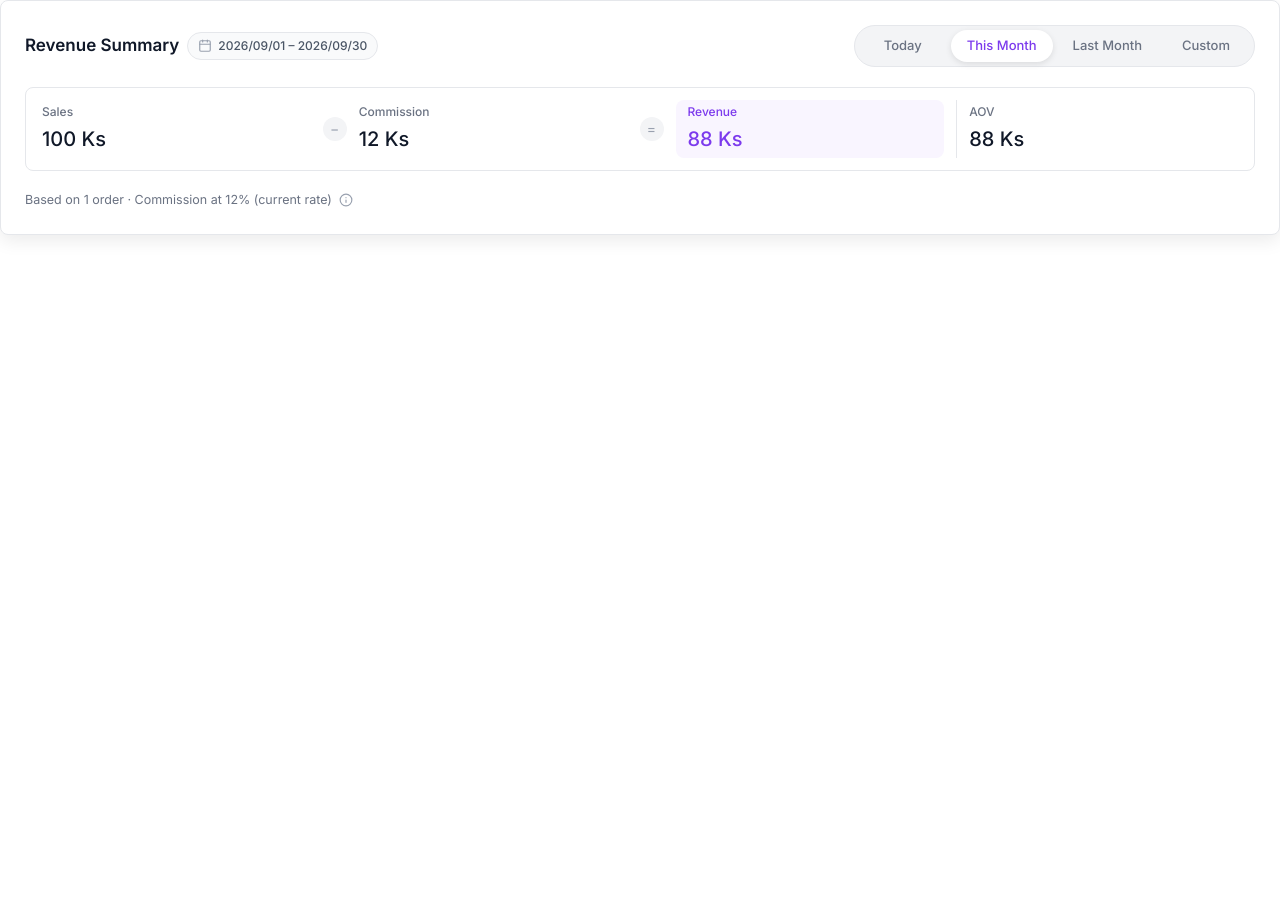
Test: RevenueSummaryGroup › falls back to the previous preset when the modal is dismissed without applying
Click the button "Custom" at (1206, 46), box [1162, 30, 1250, 62]
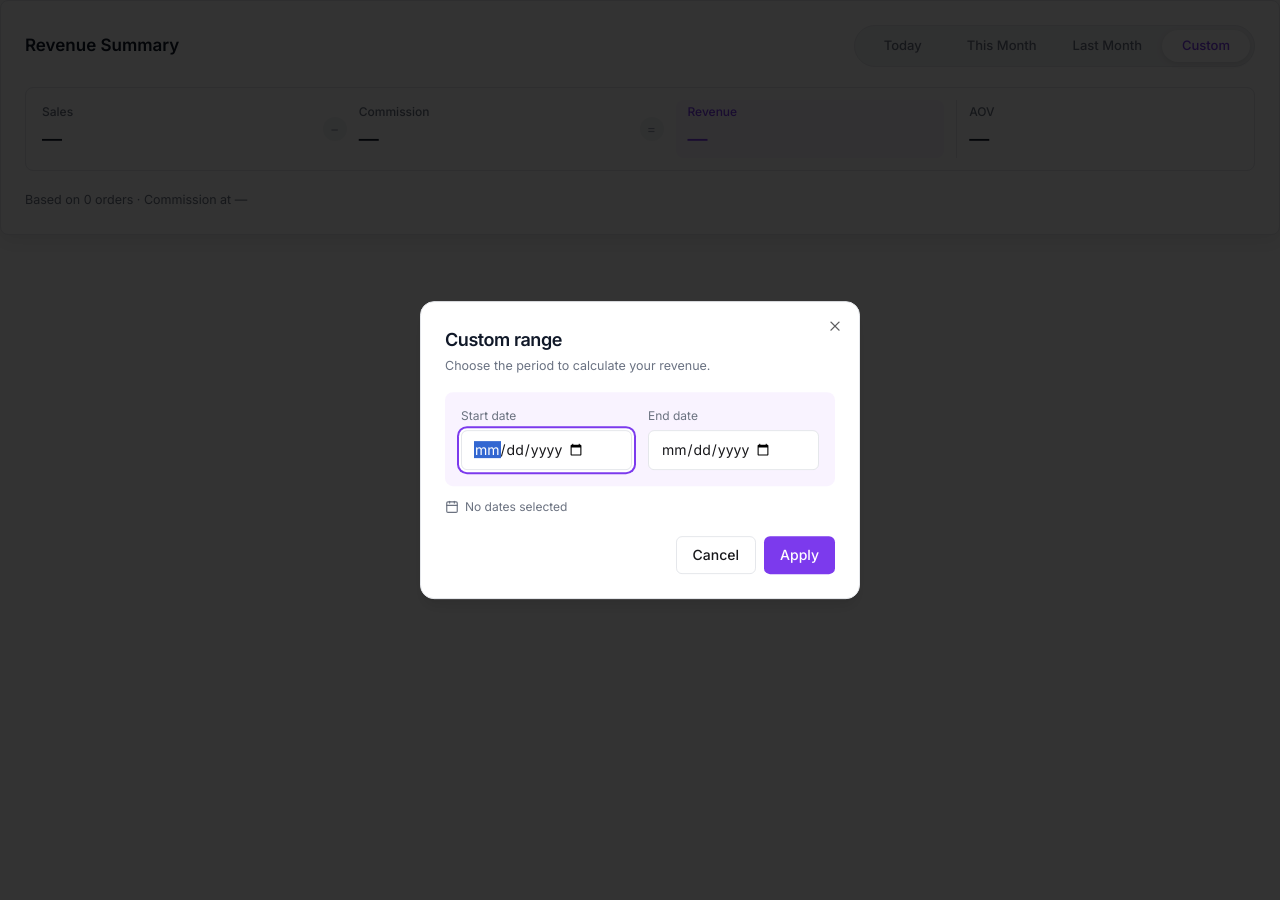
Click the button "Cancel" at (716, 555), box [676, 536, 756, 574]
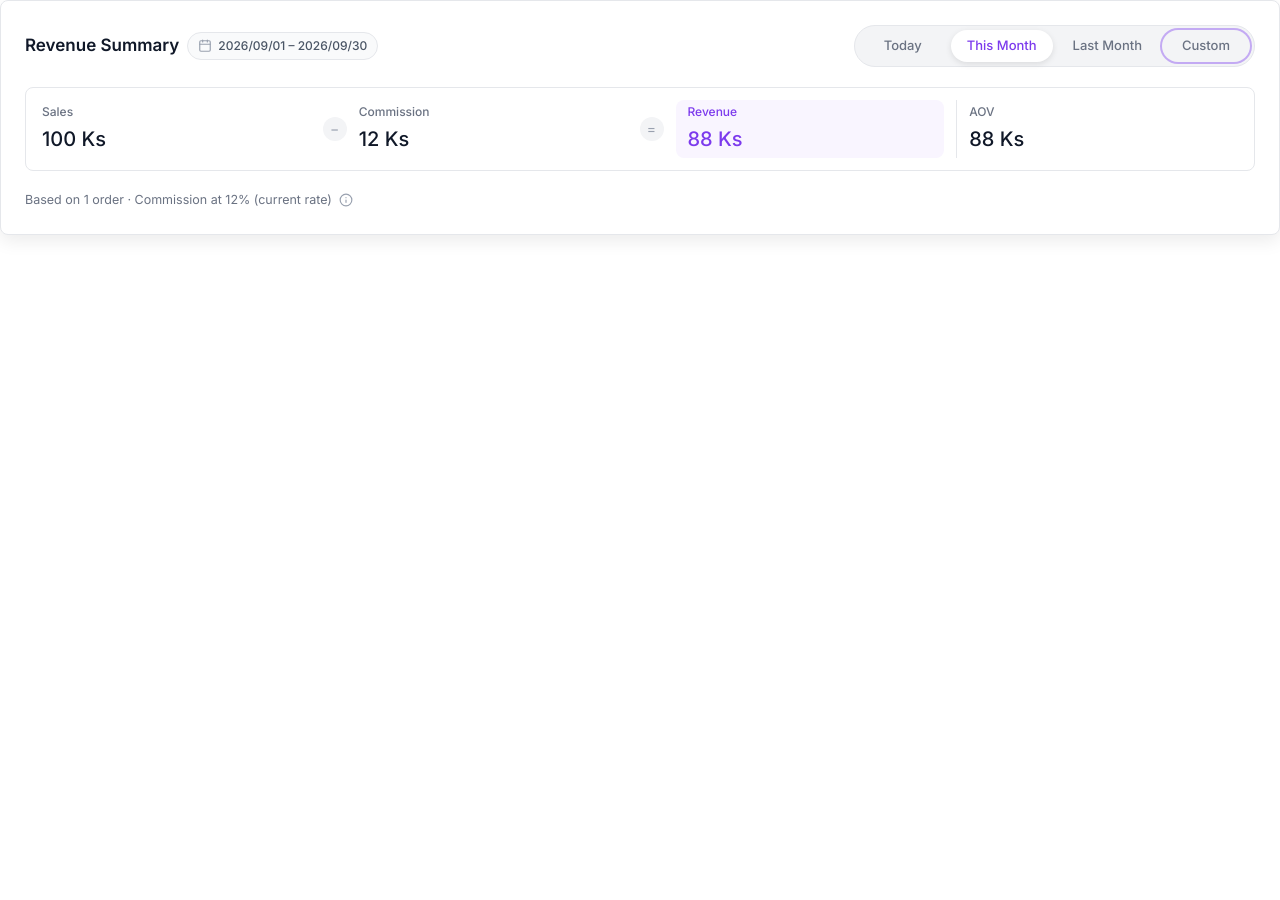
Result: the dialog is gone
Result: the text "100 Ks" is shown at [42, 127, 106, 151]
Result: the text "2026/09/01 – 2026/09/30" is shown at [218, 37, 367, 55]
